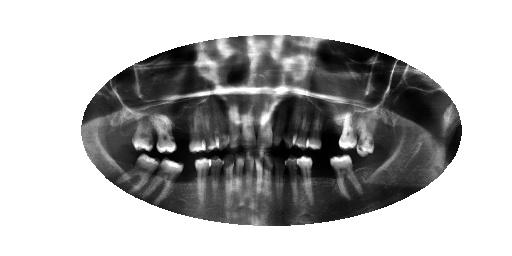Cavity: (224, 154, 235, 196)
